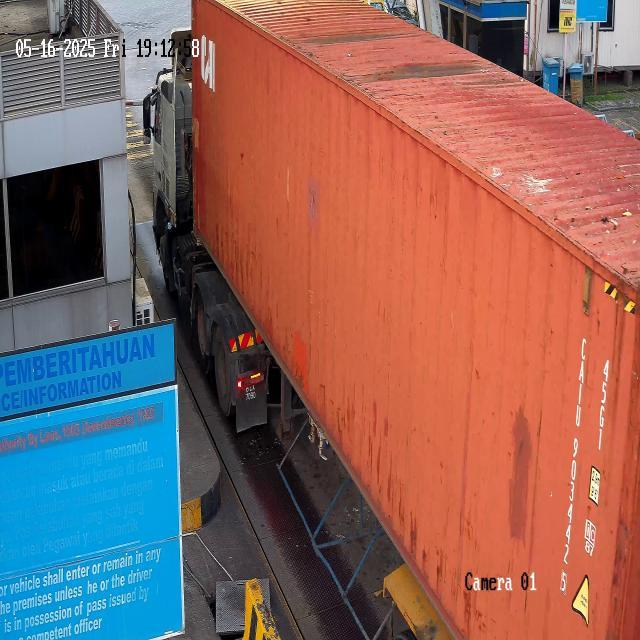ISO: (594, 353, 612, 456)
container_number: (548, 334, 592, 592)
